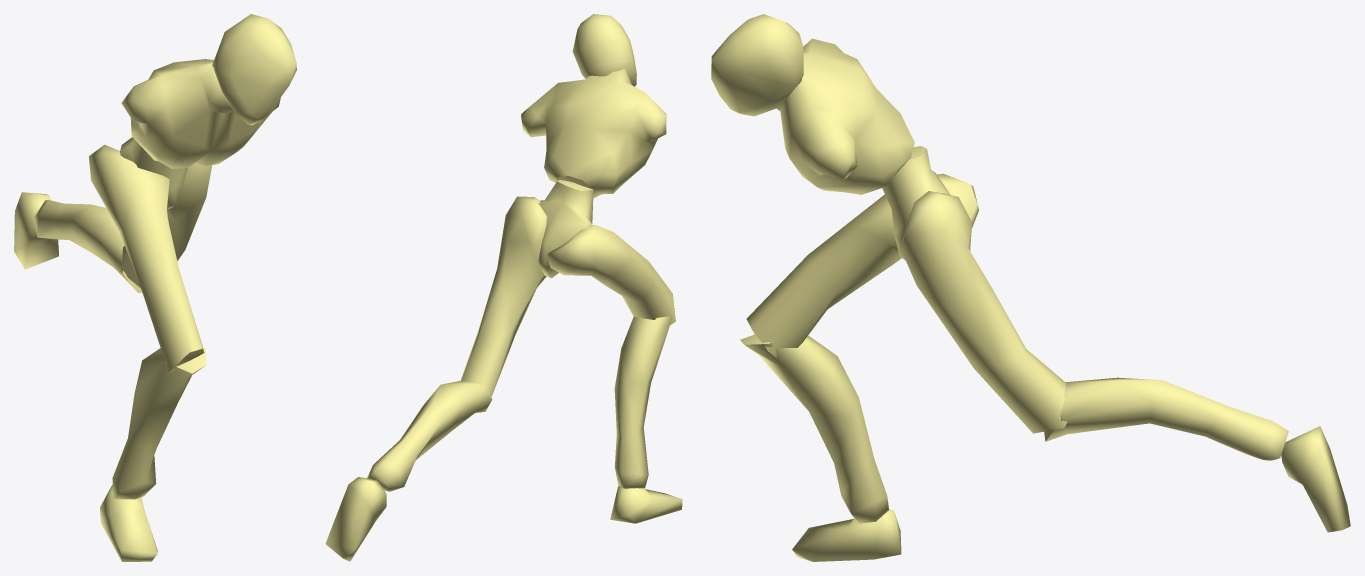
File: filth38.obj
3 renders of one model, left to right at view 1: azimuth 30°, elevation 25°; view 2: azimuth 150°, elevation 25°; view 3: azimuth 270°, elevation 25°, orthographic. The views are drawn at different scales.
Parts seen in each view (by area): view 1: Melee_Husk; view 2: Melee_Husk; view 3: Melee_Husk.
Boxes of the visible parts, x1,y1,x2,y2 form: Melee_Husk: (14, 14, 296, 561); Melee_Husk: (325, 14, 682, 561); Melee_Husk: (711, 14, 1350, 561).
Bounding box in the file's own units: 22.18 × 64.99 × 64.17.
